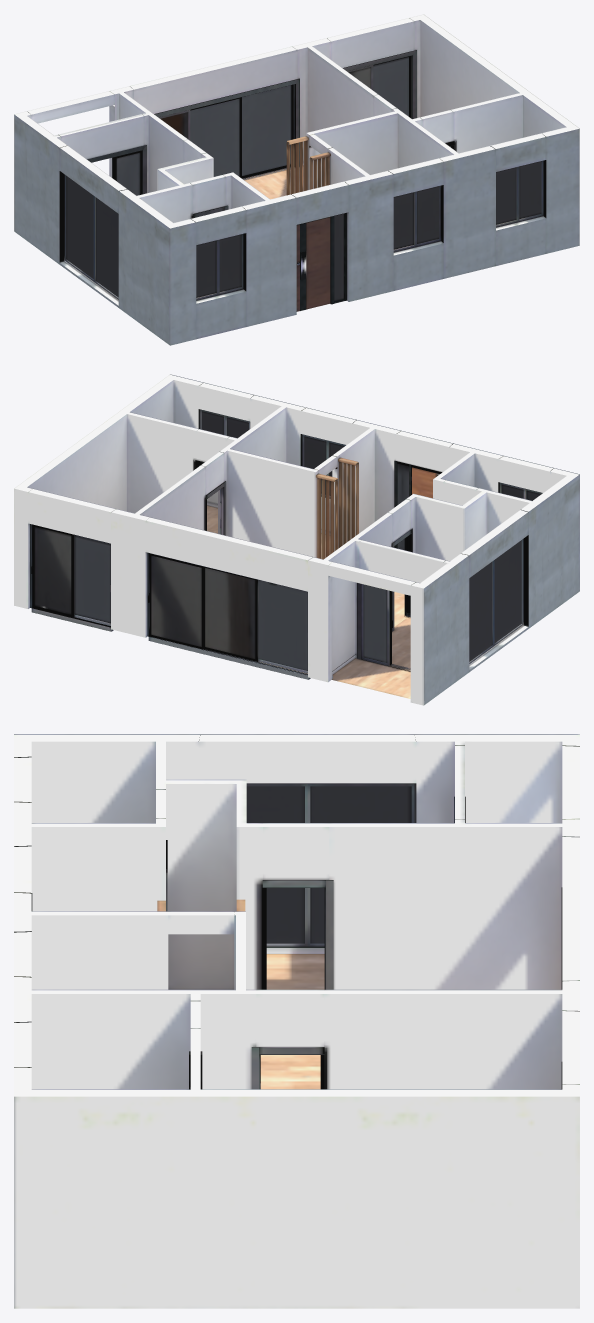
File: TeRaki-05.glb
The picture shows the model from 3 angles, top to bottom: view 1: azimuth 30°, elevation 25°; view 2: azimuth 150°, elevation 25°; view 3: azimuth 270°, elevation 25°; orthographic projection. The views are drawn at different scales.
Parts seen in each view (by area): view 1: Apartment.001, DS_PI_GlassSlidingDoor_2_Floor_0, DS_PI_HingedWindow_3_Floor_0, DS_PI_HingedDoor_0_Floor_0, DS_PI_HingedWindow_1_Floor_0, DS_PI_GlassSlidingDoor_1_Floor_0, DS_PI_HingedWindow_2_Floor_0, DS_PI_HingedWindow_0_Floor_0, DS_PI_GlassSlidingDoor_0_Floor_0, DS_PI_PartitionWall_0_Floor_0, DS_PI_PartitionWall_1_Floor_0; view 2: Apartment.001, DS_PI_GlassSlidingDoor_2_Floor_0, DS_PI_GlassSlidingDoor_1_Floor_0, DS_PI_HingedWindow_3_Floor_0, DS_PI_GlassSlidingDoor_0_Floor_0, DS_PI_PartitionWall_0_Floor_0, DS_PI_PartitionWall_1_Floor_0, DS_PI_HingedDoor_0_Floor_0, DS_PI_HingedWindow_1_Floor_0, DS_PI_HingedWindow_2_Floor_0, DS_PI_PocketDoor_0_Floor_0, DS_PI_HingedWindow_0_Floor_0; view 3: Apartment.001, DS_PI_HingedWindow_3_Floor_0, DS_PI_PocketDoor_1_Floor_0, DS_PI_PocketDoor_0_Floor_0.
Part boxes in pixels (<box>): Apartment.001: <box>14,14,579,345</box>; DS_PI_GlassSlidingDoor_2_Floor_0: <box>154,78,299,179</box>; DS_PI_HingedWindow_3_Floor_0: <box>64,174,118,300</box>; DS_PI_HingedDoor_0_Floor_0: <box>296,212,346,311</box>; DS_PI_HingedWindow_1_Floor_0: <box>393,185,441,252</box>; DS_PI_GlassSlidingDoor_1_Floor_0: <box>343,50,416,118</box>; DS_PI_HingedWindow_2_Floor_0: <box>496,160,543,227</box>; DS_PI_HingedWindow_0_Floor_0: <box>196,233,243,300</box>; DS_PI_GlassSlidingDoor_0_Floor_0: <box>87,145,146,195</box>; DS_PI_PartitionWall_0_Floor_0: <box>286,136,311,195</box>; DS_PI_PartitionWall_1_Floor_0: <box>309,152,330,189</box>; Apartment.001: <box>14,374,579,705</box>; DS_PI_GlassSlidingDoor_2_Floor_0: <box>147,552,310,679</box>; DS_PI_GlassSlidingDoor_1_Floor_0: <box>30,524,113,631</box>; DS_PI_HingedWindow_3_Floor_0: <box>469,539,523,664</box>; DS_PI_GlassSlidingDoor_0_Floor_0: <box>357,583,410,671</box>; DS_PI_PartitionWall_0_Floor_0: <box>316,473,338,559</box>; DS_PI_PartitionWall_1_Floor_0: <box>335,457,358,547</box>; DS_PI_HingedDoor_0_Floor_0: <box>394,460,441,549</box>; DS_PI_HingedWindow_1_Floor_0: <box>301,434,345,498</box>; DS_PI_HingedWindow_2_Floor_0: <box>199,409,250,438</box>; DS_PI_PocketDoor_0_Floor_0: <box>205,481,226,535</box>; DS_PI_HingedWindow_0_Floor_0: <box>499,482,542,500</box>; Apartment.001: <box>14,734,579,1308</box>; DS_PI_HingedWindow_3_Floor_0: <box>246,783,415,947</box>; DS_PI_PocketDoor_1_Floor_0: <box>262,880,333,989</box>; DS_PI_PocketDoor_0_Floor_0: <box>251,1047,324,1089</box>.
Size of the model in its own units: 10.26 by 2.9 by 6.77.
Materials: 1 (1 with a texture image).
